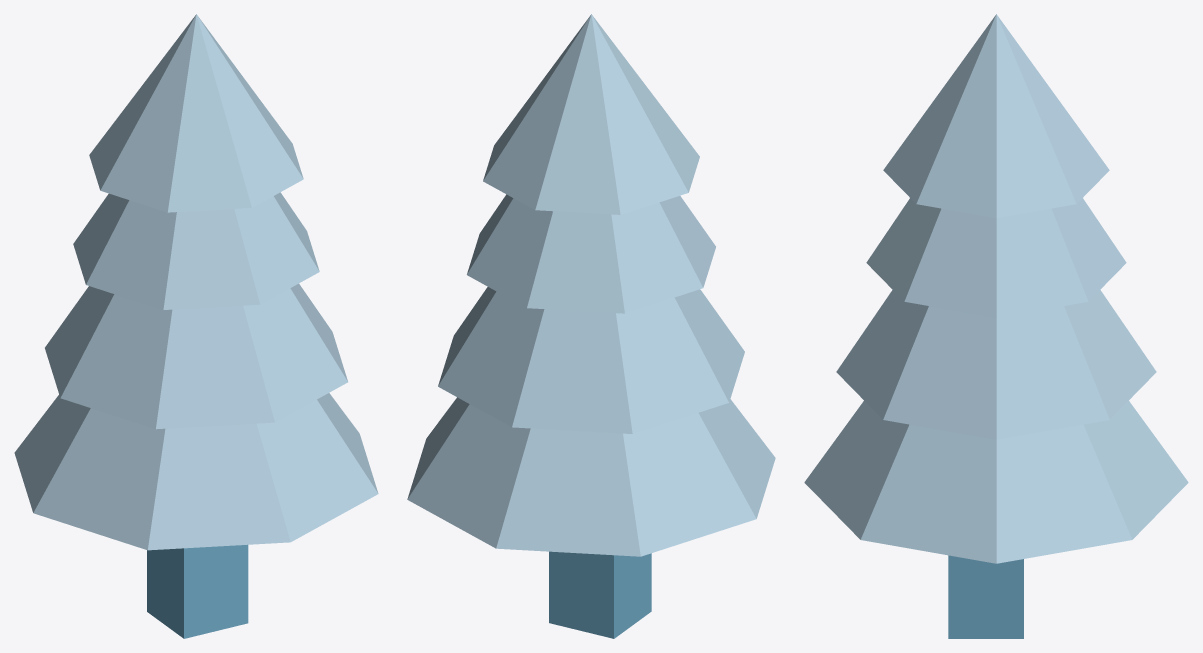
Rendered from SM_IP_Tree_01.fbx.
3 views of the same model, side by side, from view 1: azimuth 30°, elevation 25°; view 2: azimuth 150°, elevation 25°; view 3: azimuth 270°, elevation 25° (orthographic).
Parts seen in each view (by area): view 1: pCone6; view 2: pCone6; view 3: pCone6.
Part boxes in pixels (x1,y1,x2,y2): pCone6: (14, 14, 378, 638); pCone6: (407, 14, 775, 638); pCone6: (804, 14, 1188, 638).
Size of the model in its own units: 0.269 by 0.4715 by 0.269.
